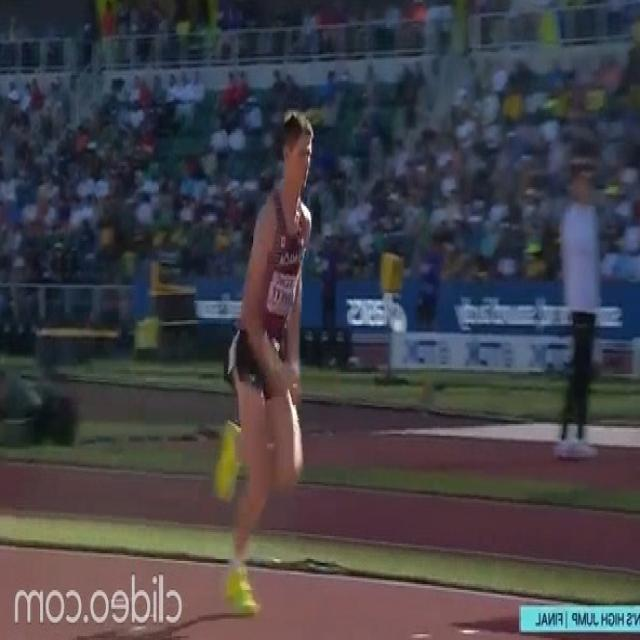run: (216, 106, 322, 618)
